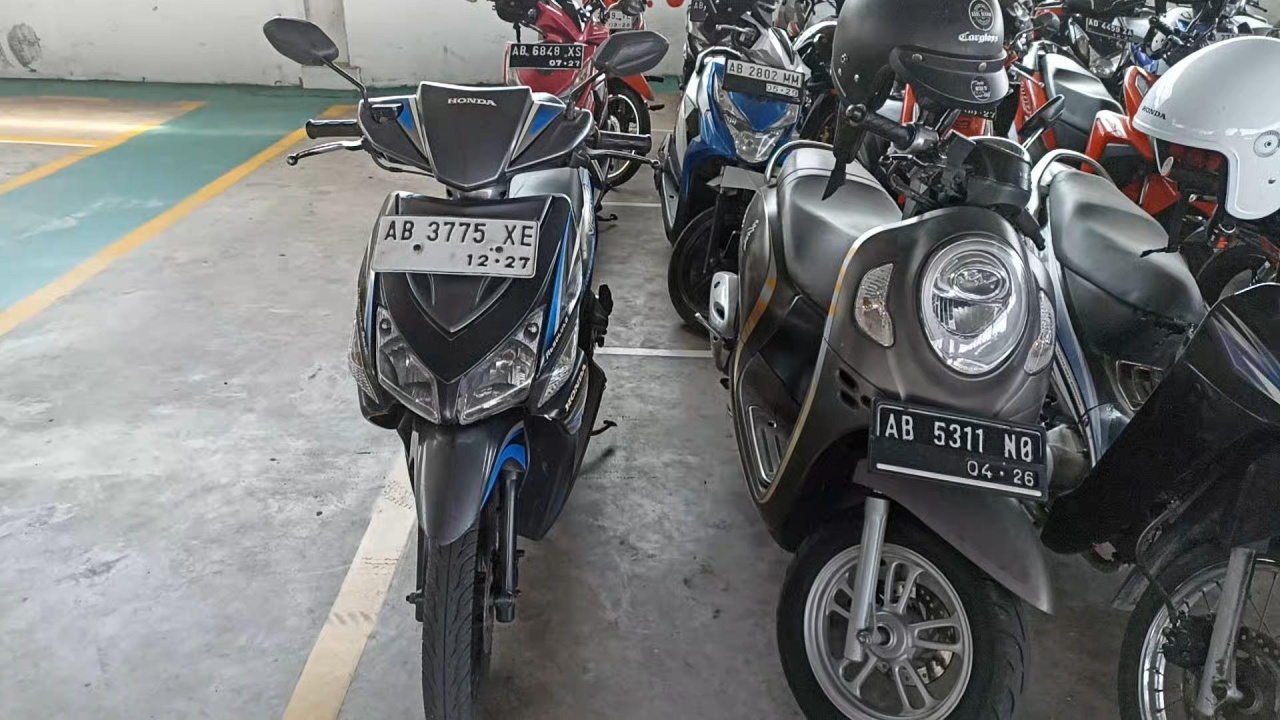plate: (871, 399, 1047, 502), (372, 216, 539, 278), (724, 58, 804, 104), (509, 43, 583, 69)
